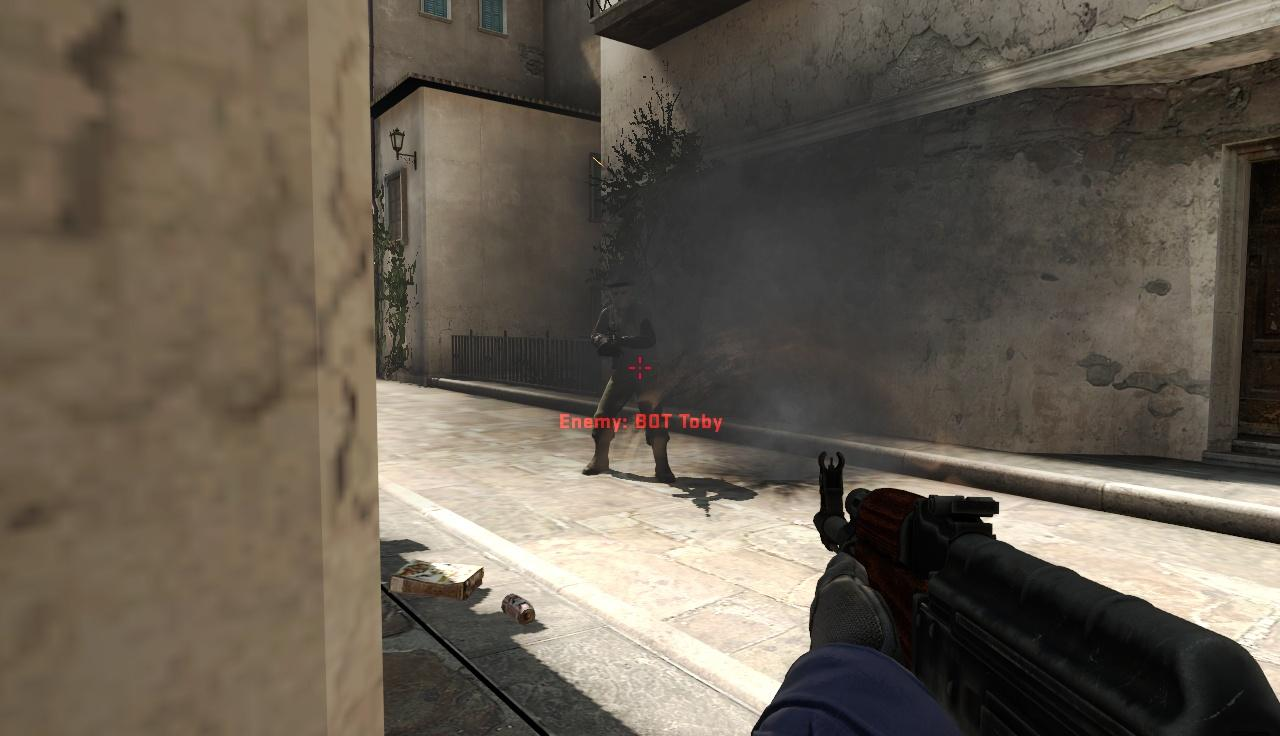rifle: (814, 446, 1280, 736)
tt: (594, 274, 662, 478)
tthead: (609, 277, 633, 309)
